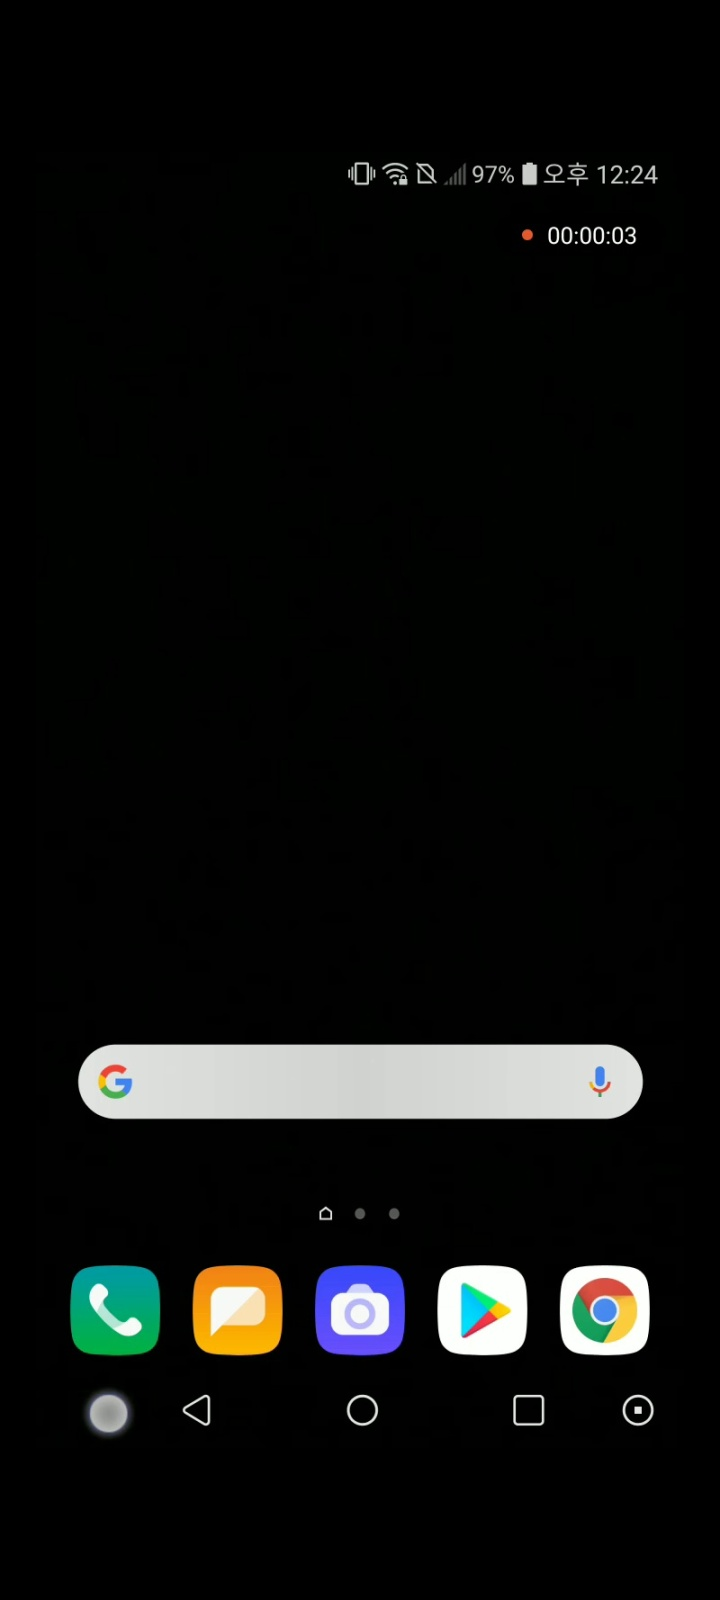Cursor: (87, 1391, 132, 1436)
